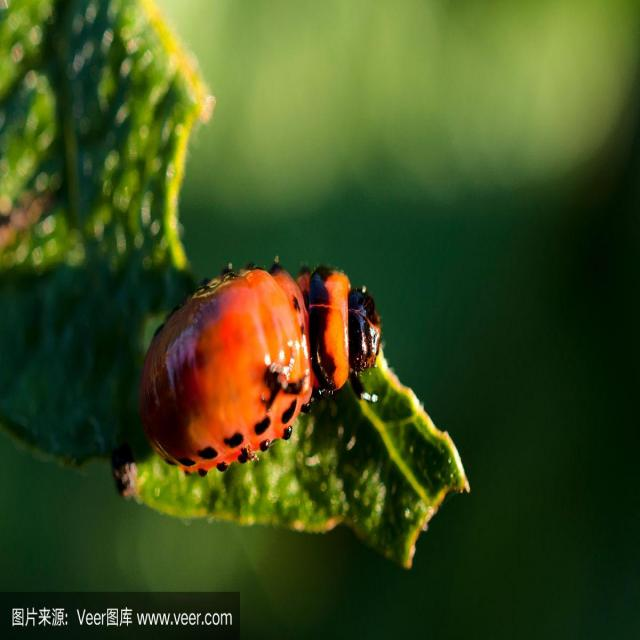ShuCaiHuaBanChong-Larva-: (141, 263, 390, 482)
